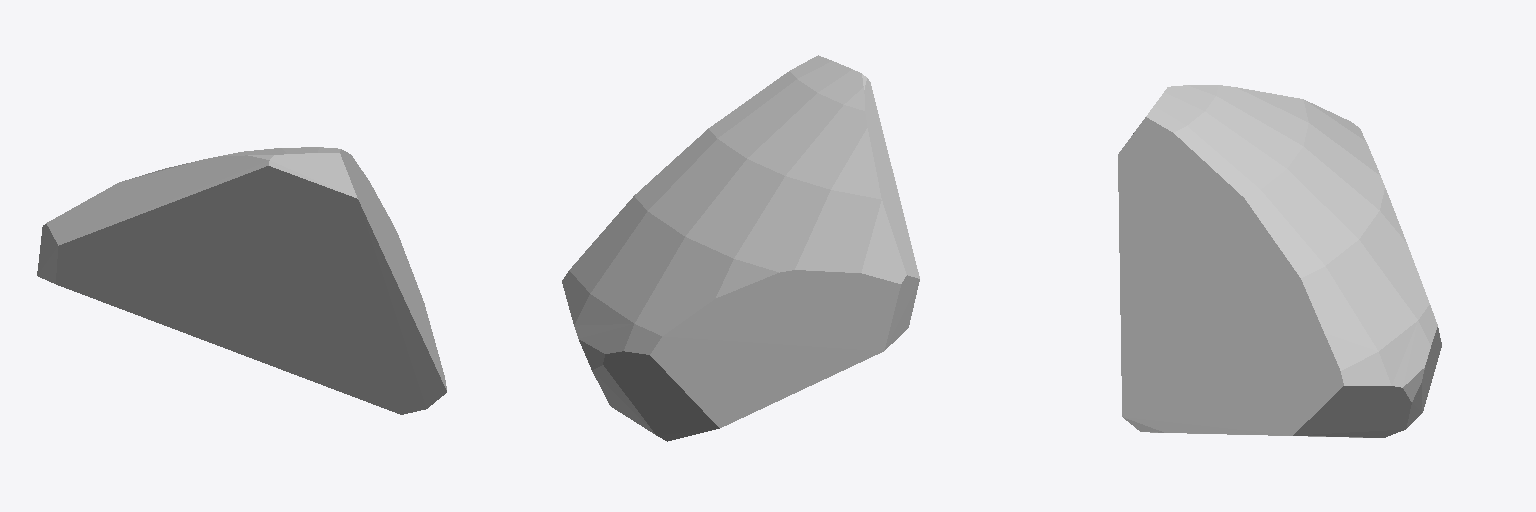
File: Sphere_Cell_Fracture5.obj
The picture shows the model from 3 angles: view 1: azimuth 30°, elevation 25°; view 2: azimuth 150°, elevation 25°; view 3: azimuth 270°, elevation 25°; orthographic projection.
Size of the model in its own units: 0.7857 by 0.6474 by 0.6307.